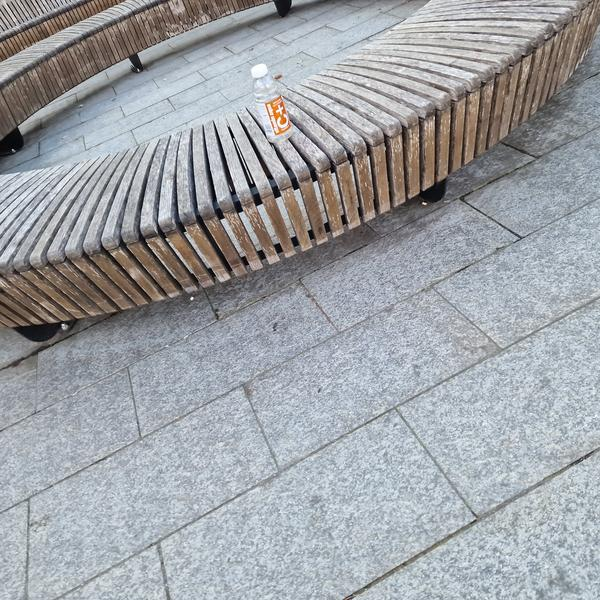plastic_bottle: (243, 60, 296, 147)
